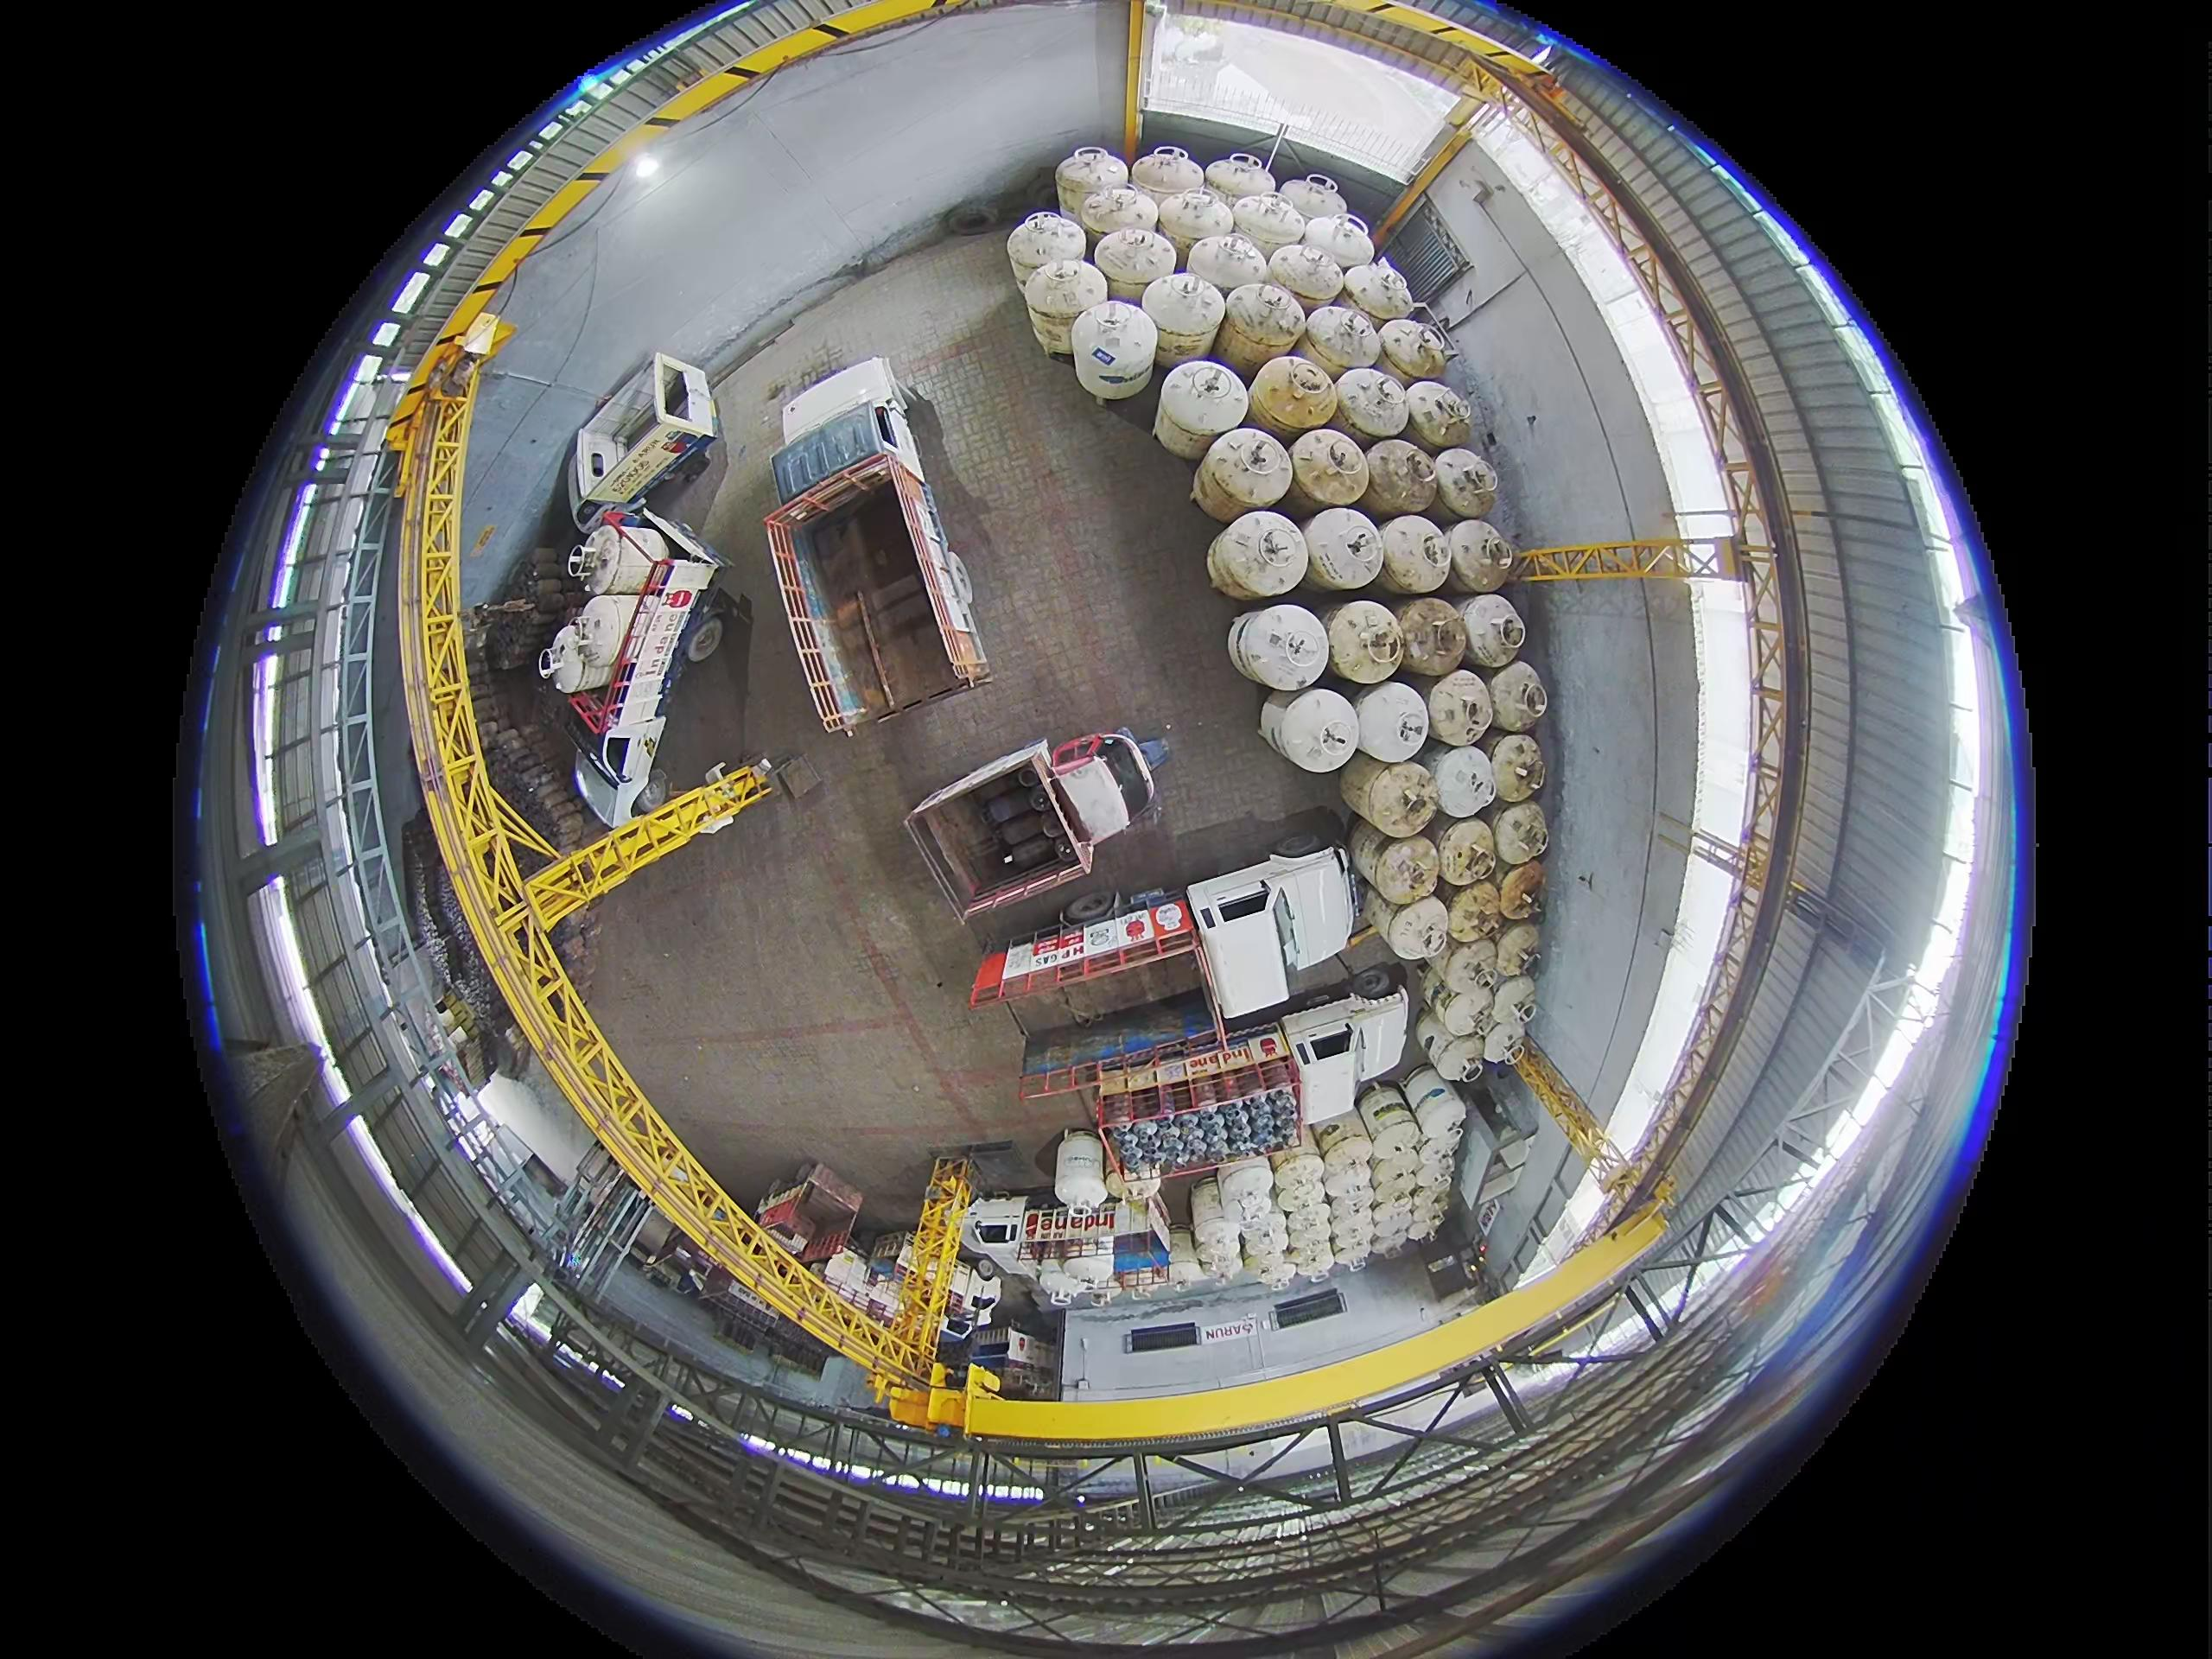cylinder: (1240, 615, 1359, 704), (1157, 359, 1251, 458), (1207, 511, 1310, 598), (1068, 301, 1155, 401), (1021, 260, 1104, 361), (564, 519, 667, 598), (1217, 279, 1305, 371), (1277, 685, 1364, 770), (1251, 354, 1339, 437), (561, 596, 641, 688), (1301, 507, 1385, 591), (1324, 601, 1407, 683), (1287, 429, 1369, 511), (1190, 444, 1270, 525), (1355, 681, 1433, 763), (1331, 366, 1411, 444), (1094, 225, 1176, 301), (1186, 230, 1271, 303), (1007, 209, 1085, 288), (1362, 439, 1439, 518), (1362, 760, 1440, 836), (1378, 514, 1453, 594), (1395, 596, 1468, 676), (1301, 303, 1381, 376), (1054, 146, 1127, 227), (1157, 188, 1235, 261), (1425, 667, 1496, 748), (1266, 239, 1345, 308), (1430, 448, 1501, 523), (1458, 594, 1527, 669), (1402, 380, 1474, 451), (1444, 519, 1514, 592), (1432, 744, 1500, 819), (1230, 192, 1306, 258), (1369, 835, 1440, 904), (1378, 317, 1451, 383), (1343, 260, 1414, 326), (1129, 146, 1202, 211), (1381, 892, 1451, 958), (1435, 816, 1501, 885), (1484, 660, 1548, 732), (1305, 211, 1376, 274), (1338, 755, 1399, 823), (1489, 800, 1550, 866), (1055, 1129, 1109, 1202), (1487, 732, 1547, 798), (1204, 153, 1275, 206), (1346, 824, 1406, 887), (1216, 1155, 1275, 1218), (1446, 882, 1505, 943), (1280, 173, 1348, 225), (1440, 939, 1500, 997), (1357, 1084, 1416, 1141), (1435, 983, 1496, 1039), (1426, 1028, 1487, 1084), (1413, 1091, 1468, 1147), (1062, 1241, 1120, 1295), (1487, 976, 1540, 1033), (1496, 861, 1547, 920), (1493, 920, 1541, 978), (1369, 1126, 1423, 1176), (1273, 1154, 1331, 1201), (1360, 885, 1406, 945), (1193, 1220, 1244, 1272), (1414, 1009, 1460, 1065), (1259, 694, 1299, 756), (1190, 1185, 1233, 1243), (1480, 1016, 1527, 1068), (1322, 1134, 1376, 1180), (1371, 1157, 1425, 1201), (1306, 1115, 1360, 1159), (1238, 1218, 1287, 1265), (1420, 950, 1461, 1004), (1036, 1262, 1082, 1310), (1325, 1166, 1376, 1208), (1369, 1194, 1414, 1237), (1325, 1194, 1372, 1236), (1332, 1218, 1374, 1263), (1285, 1236, 1332, 1274), (1176, 30, 1223, 68), (1418, 1147, 1458, 1190), (1404, 1185, 1444, 1229), (1251, 1255, 1296, 1290), (1170, 1249, 1211, 1286), (1367, 1223, 1411, 1256), (1165, 1232, 1200, 1272)
truck: (897, 845, 1359, 1091), (765, 359, 989, 730), (906, 730, 1284, 927), (960, 981, 1505, 1087), (552, 512, 716, 828), (927, 1190, 1233, 1307), (559, 355, 705, 500), (756, 1176, 864, 1262)
